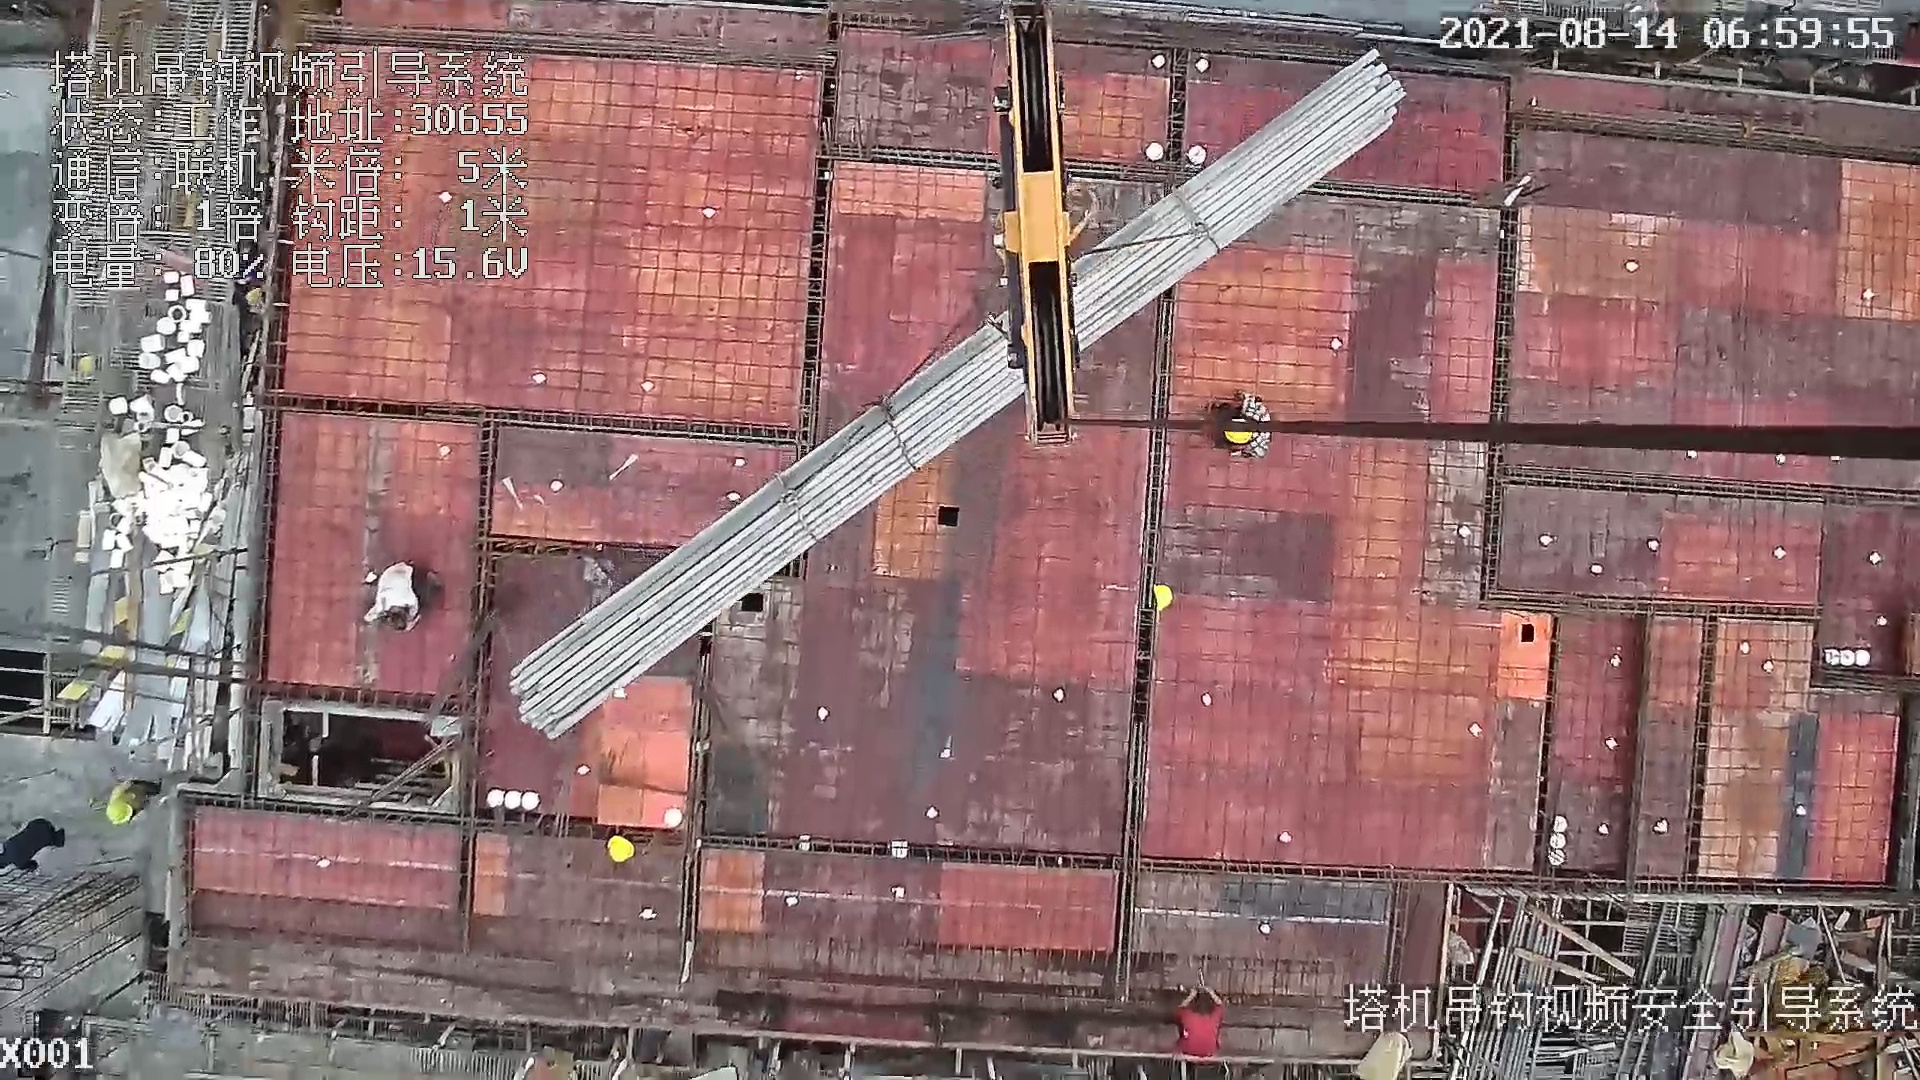helmet: (606, 835, 635, 862), (106, 804, 134, 825), (1152, 583, 1173, 612), (1224, 431, 1255, 443)
hook: (960, 3, 1110, 462)
person: (358, 564, 435, 633), (1213, 390, 1265, 459), (1176, 987, 1225, 1056), (106, 779, 161, 825)
rebar: (511, 54, 1408, 742)
